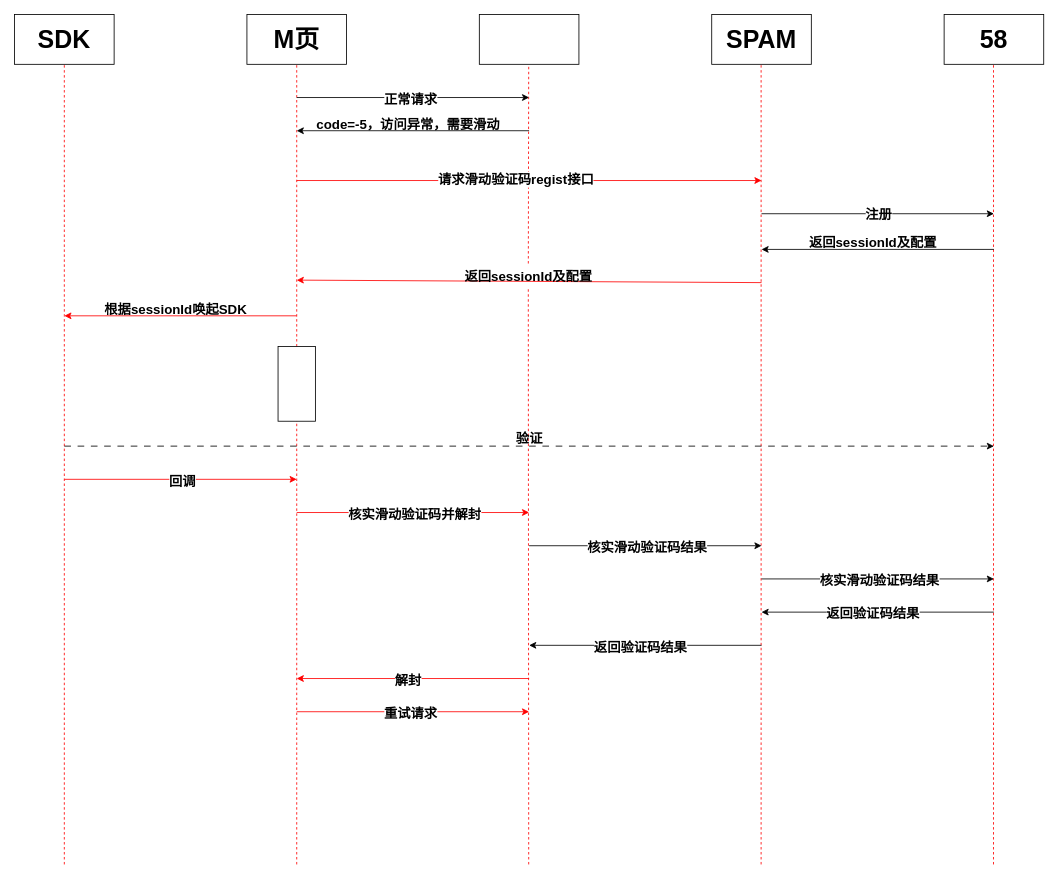
This 1058x880 diagram has some shape labels left out. The box of each missing label's shape, as (x1, y1, x2, y2) in pixels:
Entry: (478, 14, 579, 64)
用户交互: (277, 346, 315, 421)
